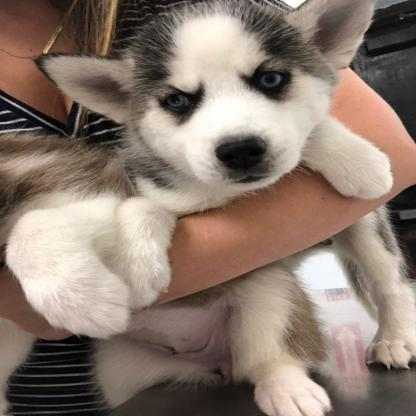dog: (7, 0, 416, 416)
